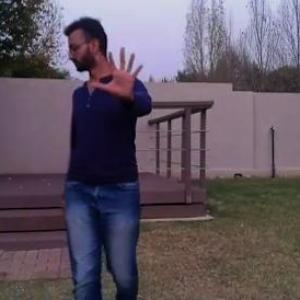follow_hand: (85, 34, 149, 101)
